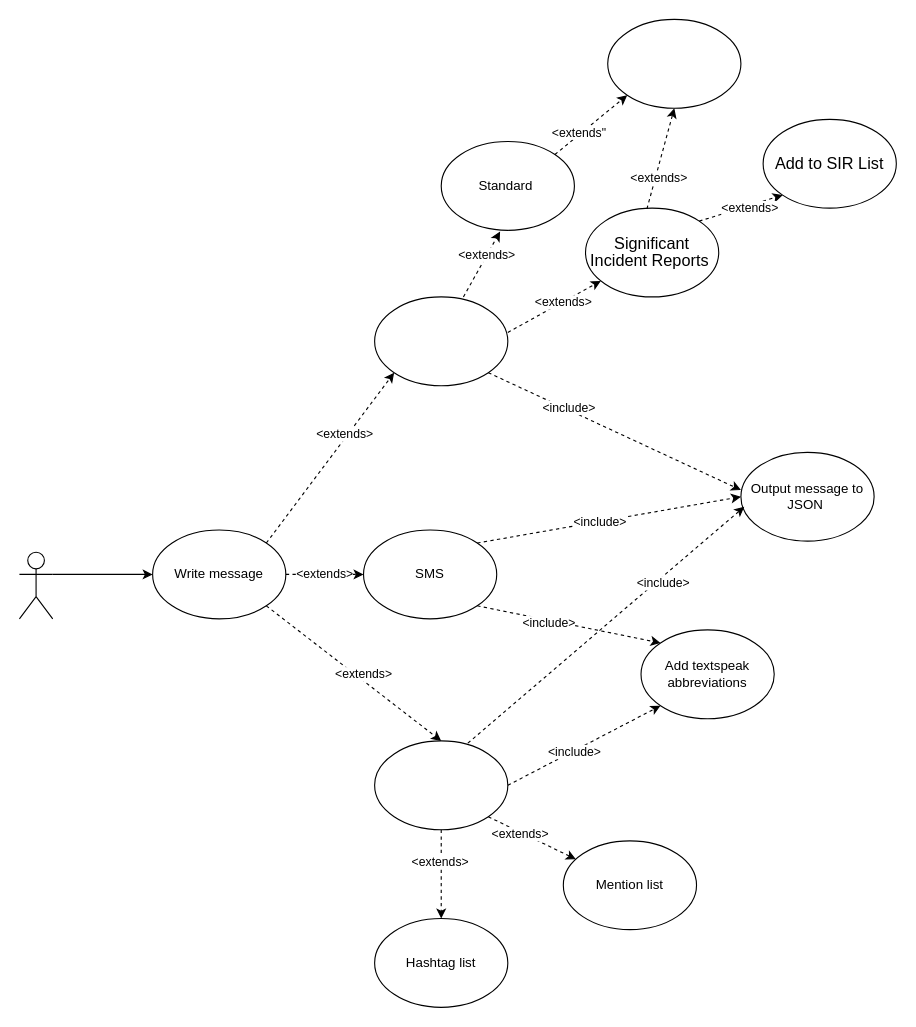
The diagram is 916 pixels wide and 1027 high, and some of its shapes have lost their labels. Each missing label, with the box of its shape:
Add URL to quarantine list: (607, 18, 741, 108)
EMAIL: (374, 296, 508, 386)
Tweets: (374, 740, 508, 830)
User: (18, 551, 53, 619)
